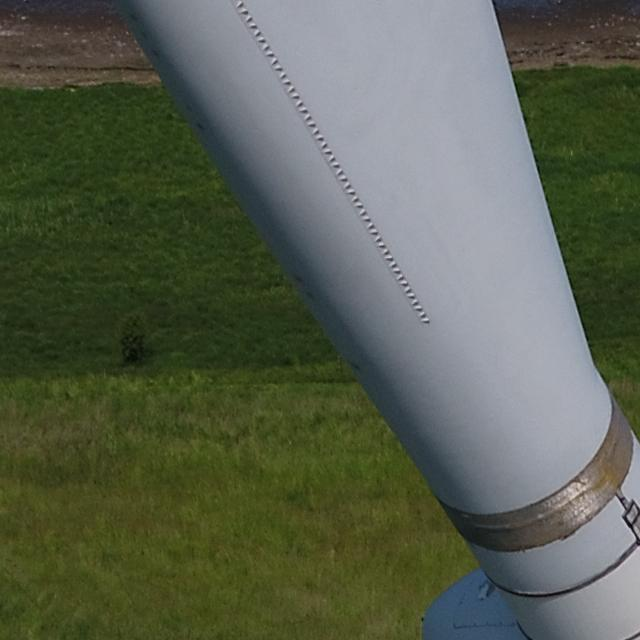damage: (225, 1, 302, 99), (282, 89, 359, 187), (339, 181, 416, 279), (393, 269, 435, 335)
